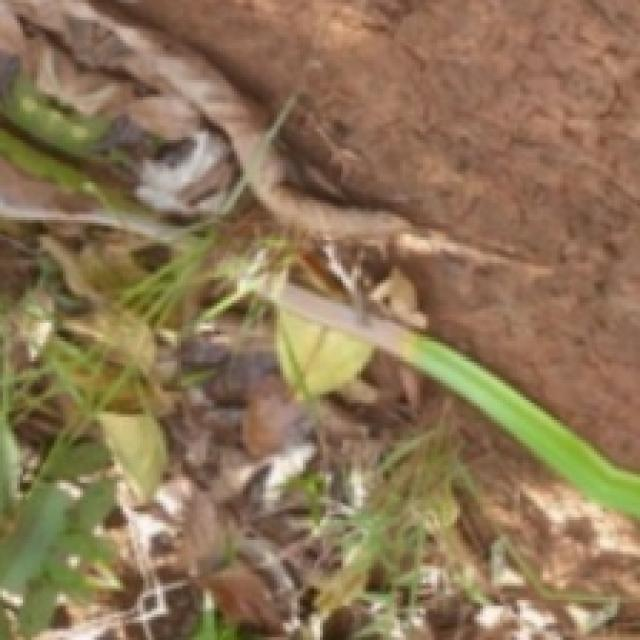red-tailed green ratsnake: (282, 286, 640, 518), (0, 199, 188, 243)
